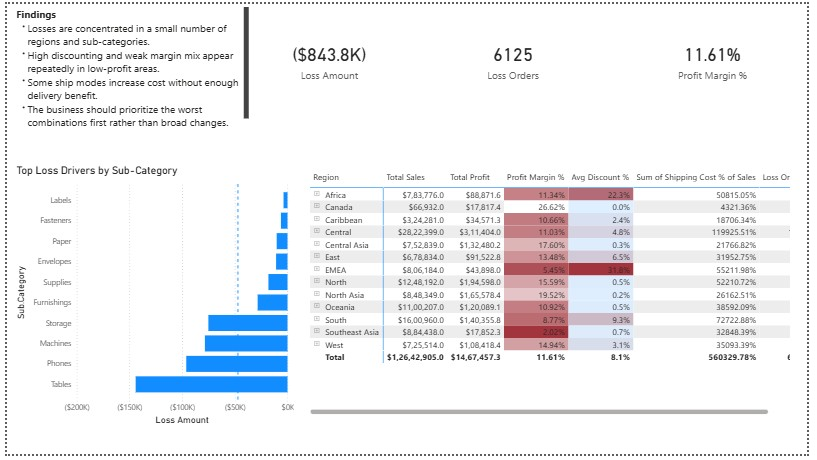

The page's visual inventory and layout, read from the dashboard file:
{"tool":"powerbi","page":{"name":"Key Drivers Summary","canvas":[1280,720],"ordinal":4},"visuals":[{"type":"textbox","box":[10,0,382,204],"z":0},{"type":"card","fields":{"Values":["superstore.Loss Amount"]},"box":[392,14,248,152],"z":1000},{"type":"card","fields":{"Values":["superstore.Loss Orders"]},"box":[686,14,248,152],"z":2000},{"type":"card","fields":{"Values":["superstore.Profit Margin %"]},"box":[1000,14,258,152],"z":3000},{"type":"clusteredBarChart","title":"Top Loss Drivers by Sub-Category","fields":{"Category":["superstore.Sub.Category"],"Y":["superstore.Loss Amount"]},"box":[10,256,454,422],"z":4000},{"type":"pivotTable","fields":{"Rows":["superstore.Region","superstore.Category","superstore.Sub.Category"],"Values":["superstore.Total Sales","superstore.Total Profit","superstore.Profit Margin %","superstore.Avg Discount %","Sum(superstore.Shipping Cost % of Sales)","superstore.Loss Orders"]},"box":[480,260,778,402],"z":5000}]}

Visuals, with their boxes in screenshot pixels (x1, y1, x2, y2), scaled from the page's 1280x720 canvas onto the 817x460 screenshot:
textbox: [left=6, top=0, right=250, bottom=130]
card - superstore.Loss Amount: [left=250, top=9, right=408, bottom=106]
card - superstore.Loss Orders: [left=438, top=9, right=596, bottom=106]
card - superstore.Profit Margin %: [left=638, top=9, right=803, bottom=106]
"Top Loss Drivers by Sub-Category" clusteredBarChart: [left=6, top=164, right=296, bottom=433]
pivotTable - superstore.Region x superstore.Category: [left=306, top=166, right=803, bottom=423]
